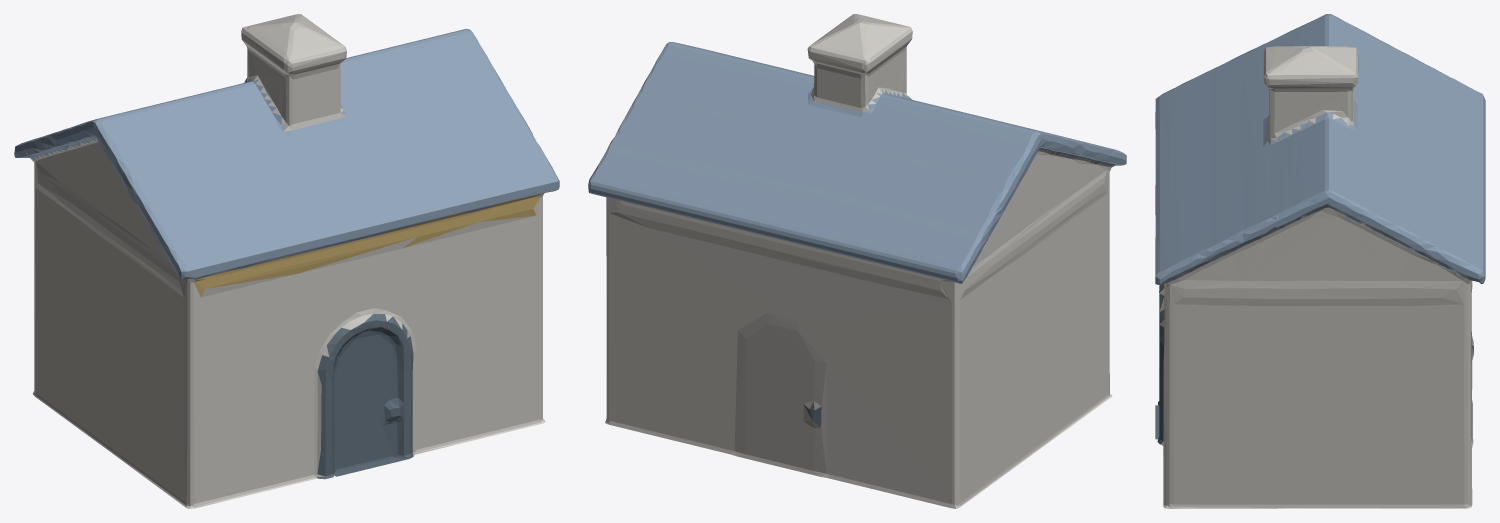
The picture shows the model from 3 angles, left to right: view 1: azimuth 30°, elevation 25°; view 2: azimuth 150°, elevation 25°; view 3: azimuth 270°, elevation 25°; orthographic projection. The views are drawn at different scales.
Parts seen in each view (by area): view 1: geometry_0; view 2: geometry_0; view 3: geometry_0.
Boxes of the visible parts, x1,y1,x2,y2 form: geometry_0: (14, 14, 559, 508); geometry_0: (588, 14, 1126, 508); geometry_0: (1155, 14, 1485, 508).
Size of the model in its own units: 0.8625 by 0.8401 by 0.6664.
